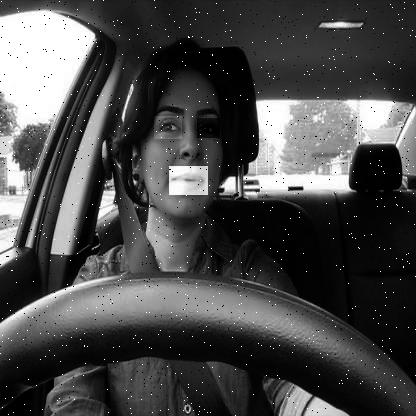seatbelt: (113, 31, 247, 416)
